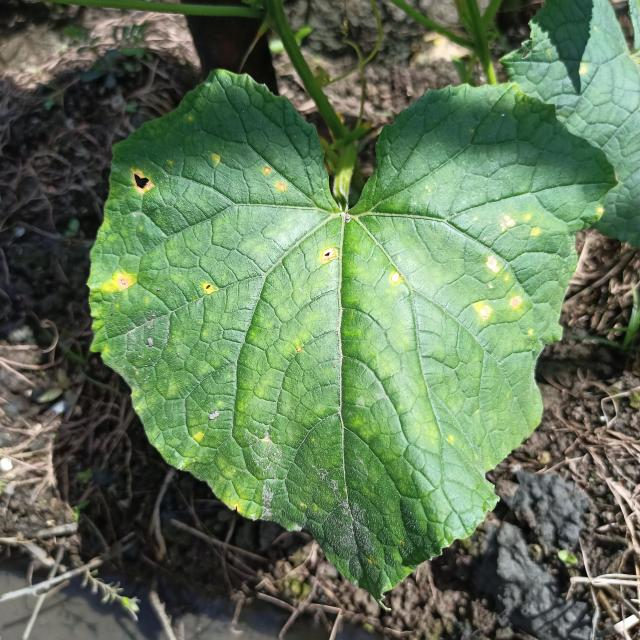disease_cucumber: (472, 208, 541, 322), (262, 162, 289, 197), (100, 270, 137, 291), (130, 168, 152, 196), (320, 248, 338, 266), (389, 271, 404, 287), (202, 282, 213, 296)
